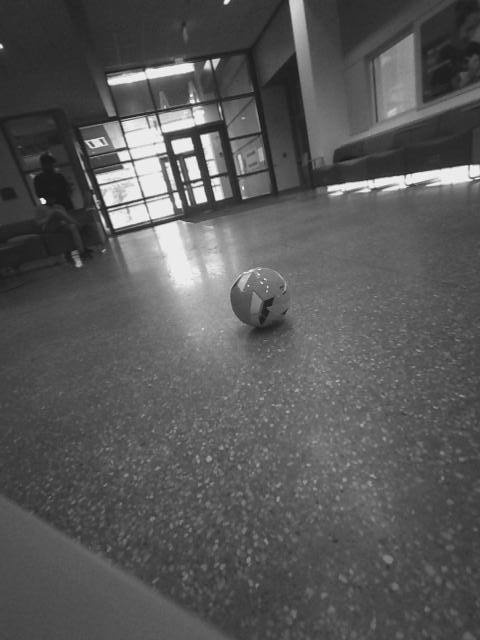ball: (219, 261, 301, 334)
